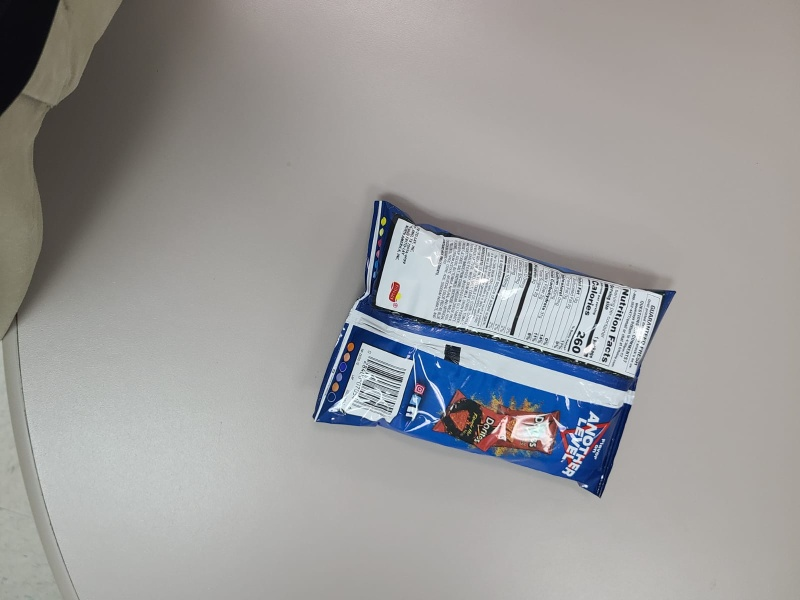doritos: (312, 200, 678, 504)
